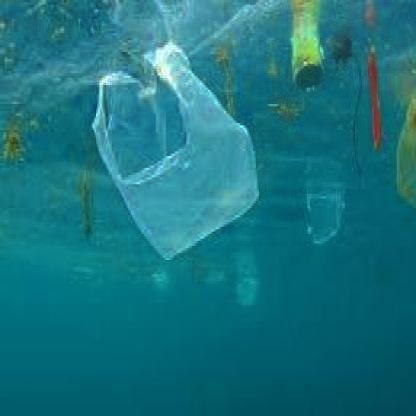pbag: (92, 42, 262, 262)
